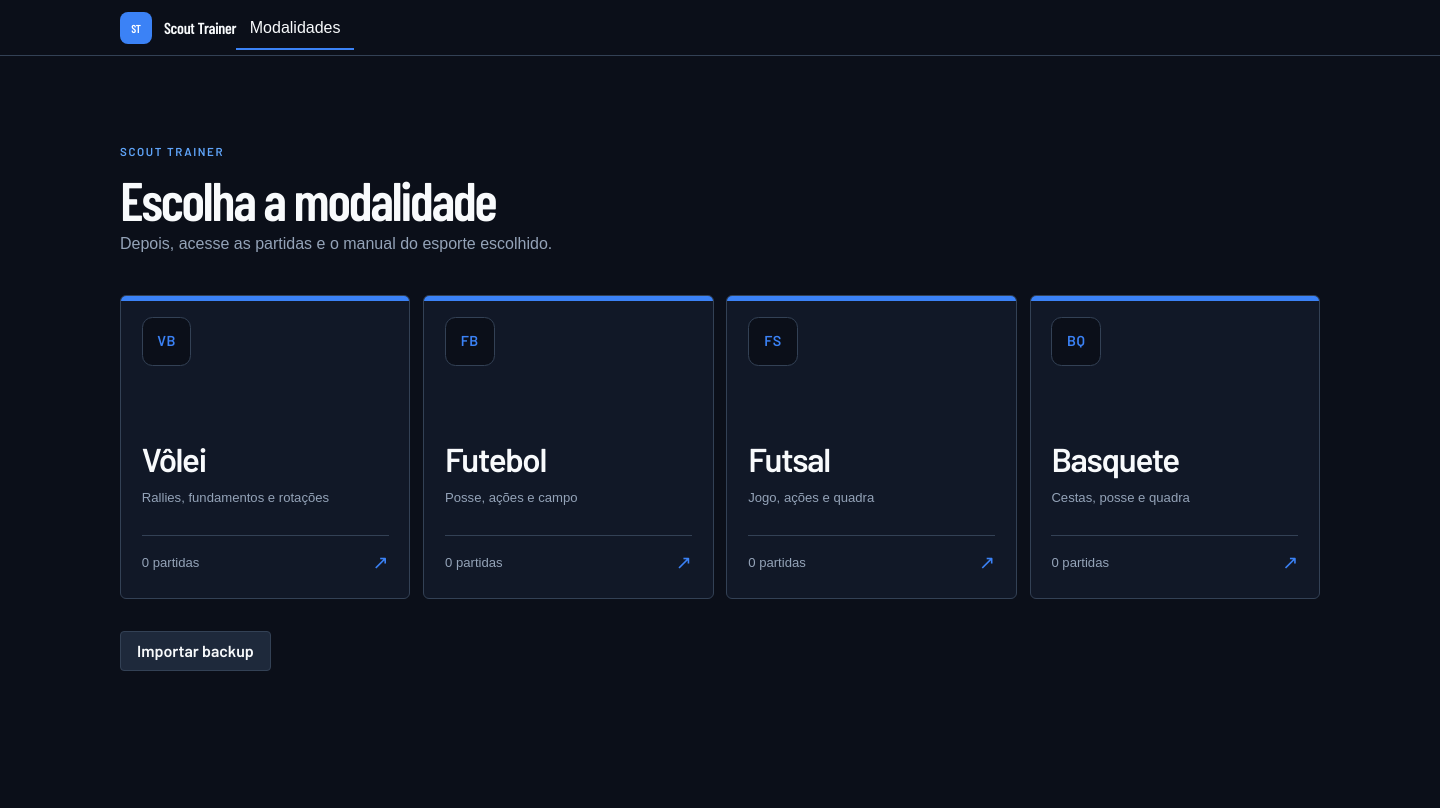
Scenario: usable MVP flow › opens a permanent code manual from the main navigation
The width and height of the screenshot is (1440, 808).
Click the button with aria-label "Vôlei: abrir partidas e manual".
click(167, 341)  # box [120,295,410,599]
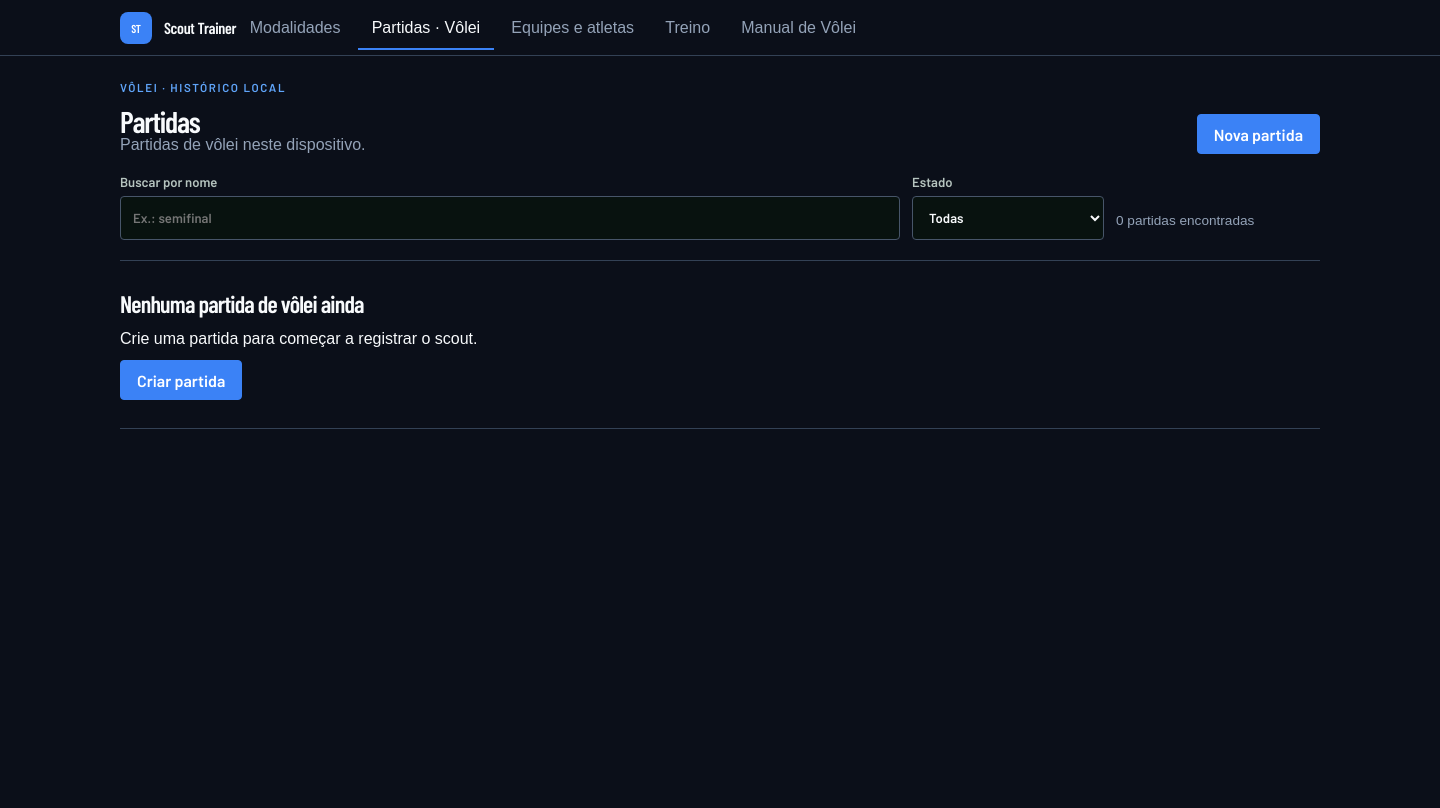
Expected: the heading "Partidas" is shown, [120,103,200,139]
Click the button "Manual de Vôlei".
click(799, 28)  # box [728,6,870,50]
(page scrolled)
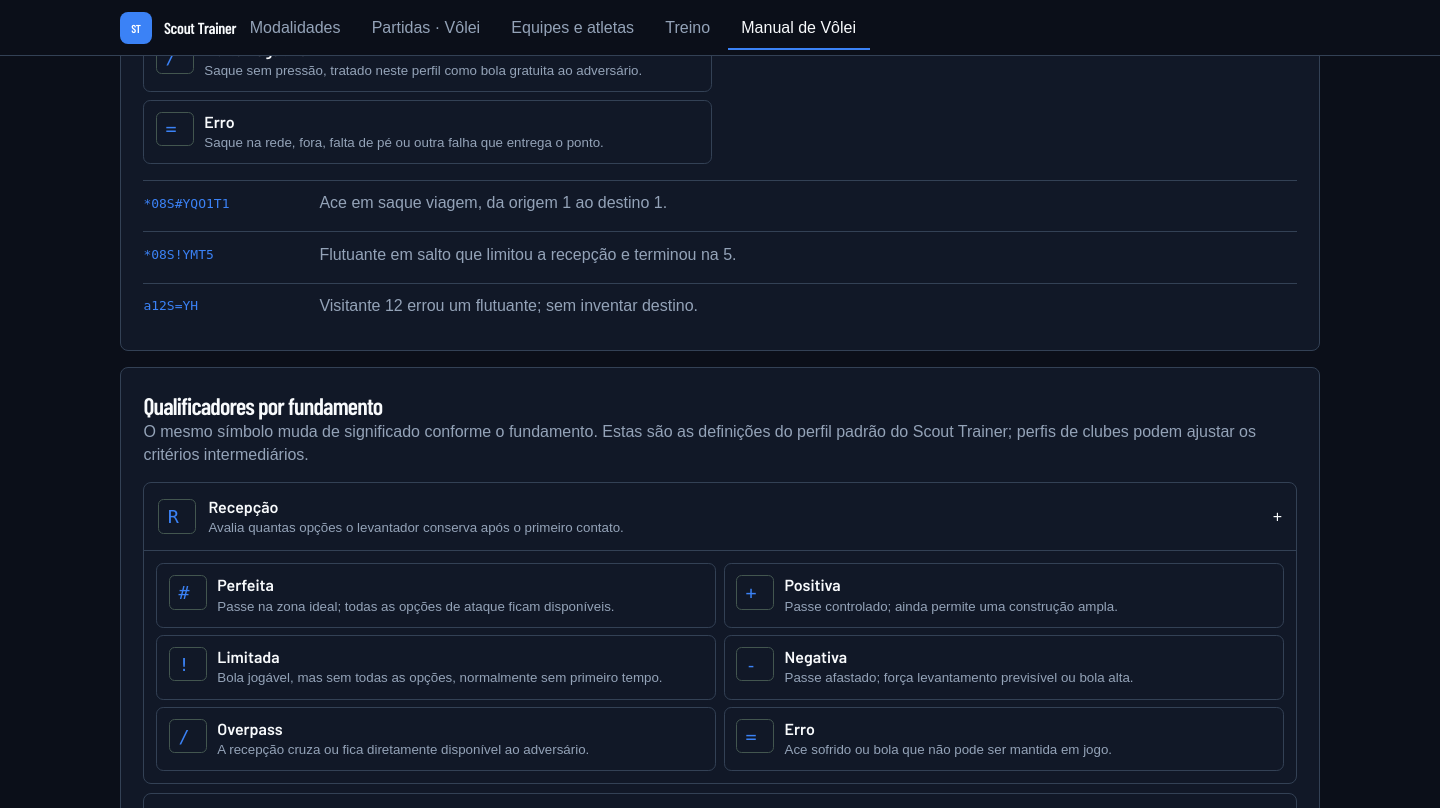
Result: the heading "Qualificadores por fundamento" is shown at [143,390,382,420]
